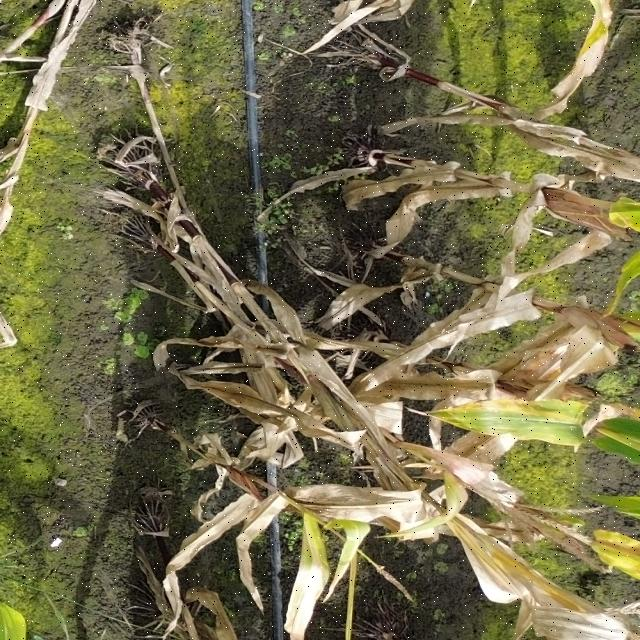northern-leaf-blight: (429, 382, 629, 461)
